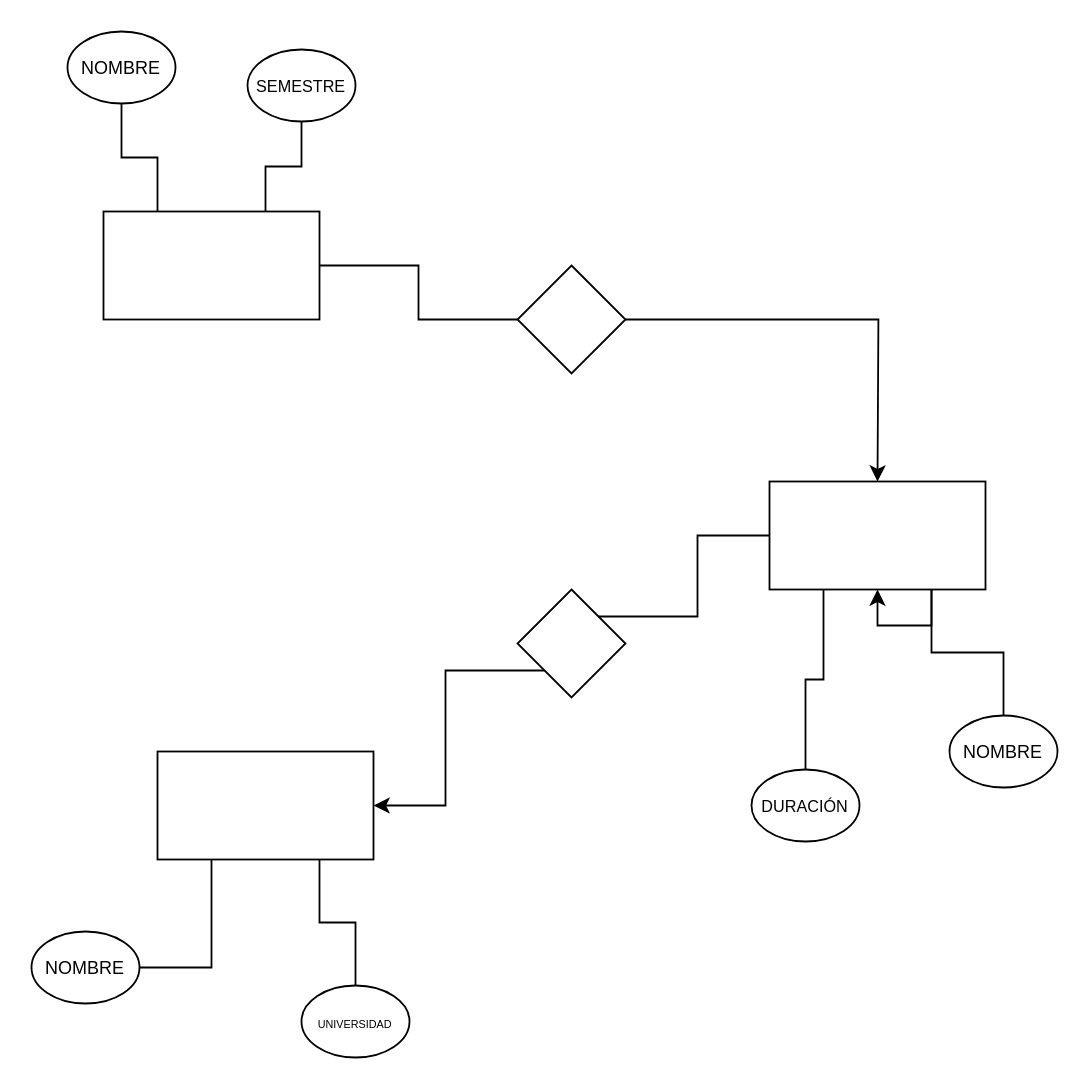
This 1089x1089 diagram has some shape labels left out. Here are the shapes that lost their labels. From the top down, the box of each, then its label:
(102, 210, 320, 320): MATERIA
(768, 480, 986, 590): CARRERA
(156, 750, 374, 860): FACULTAD
